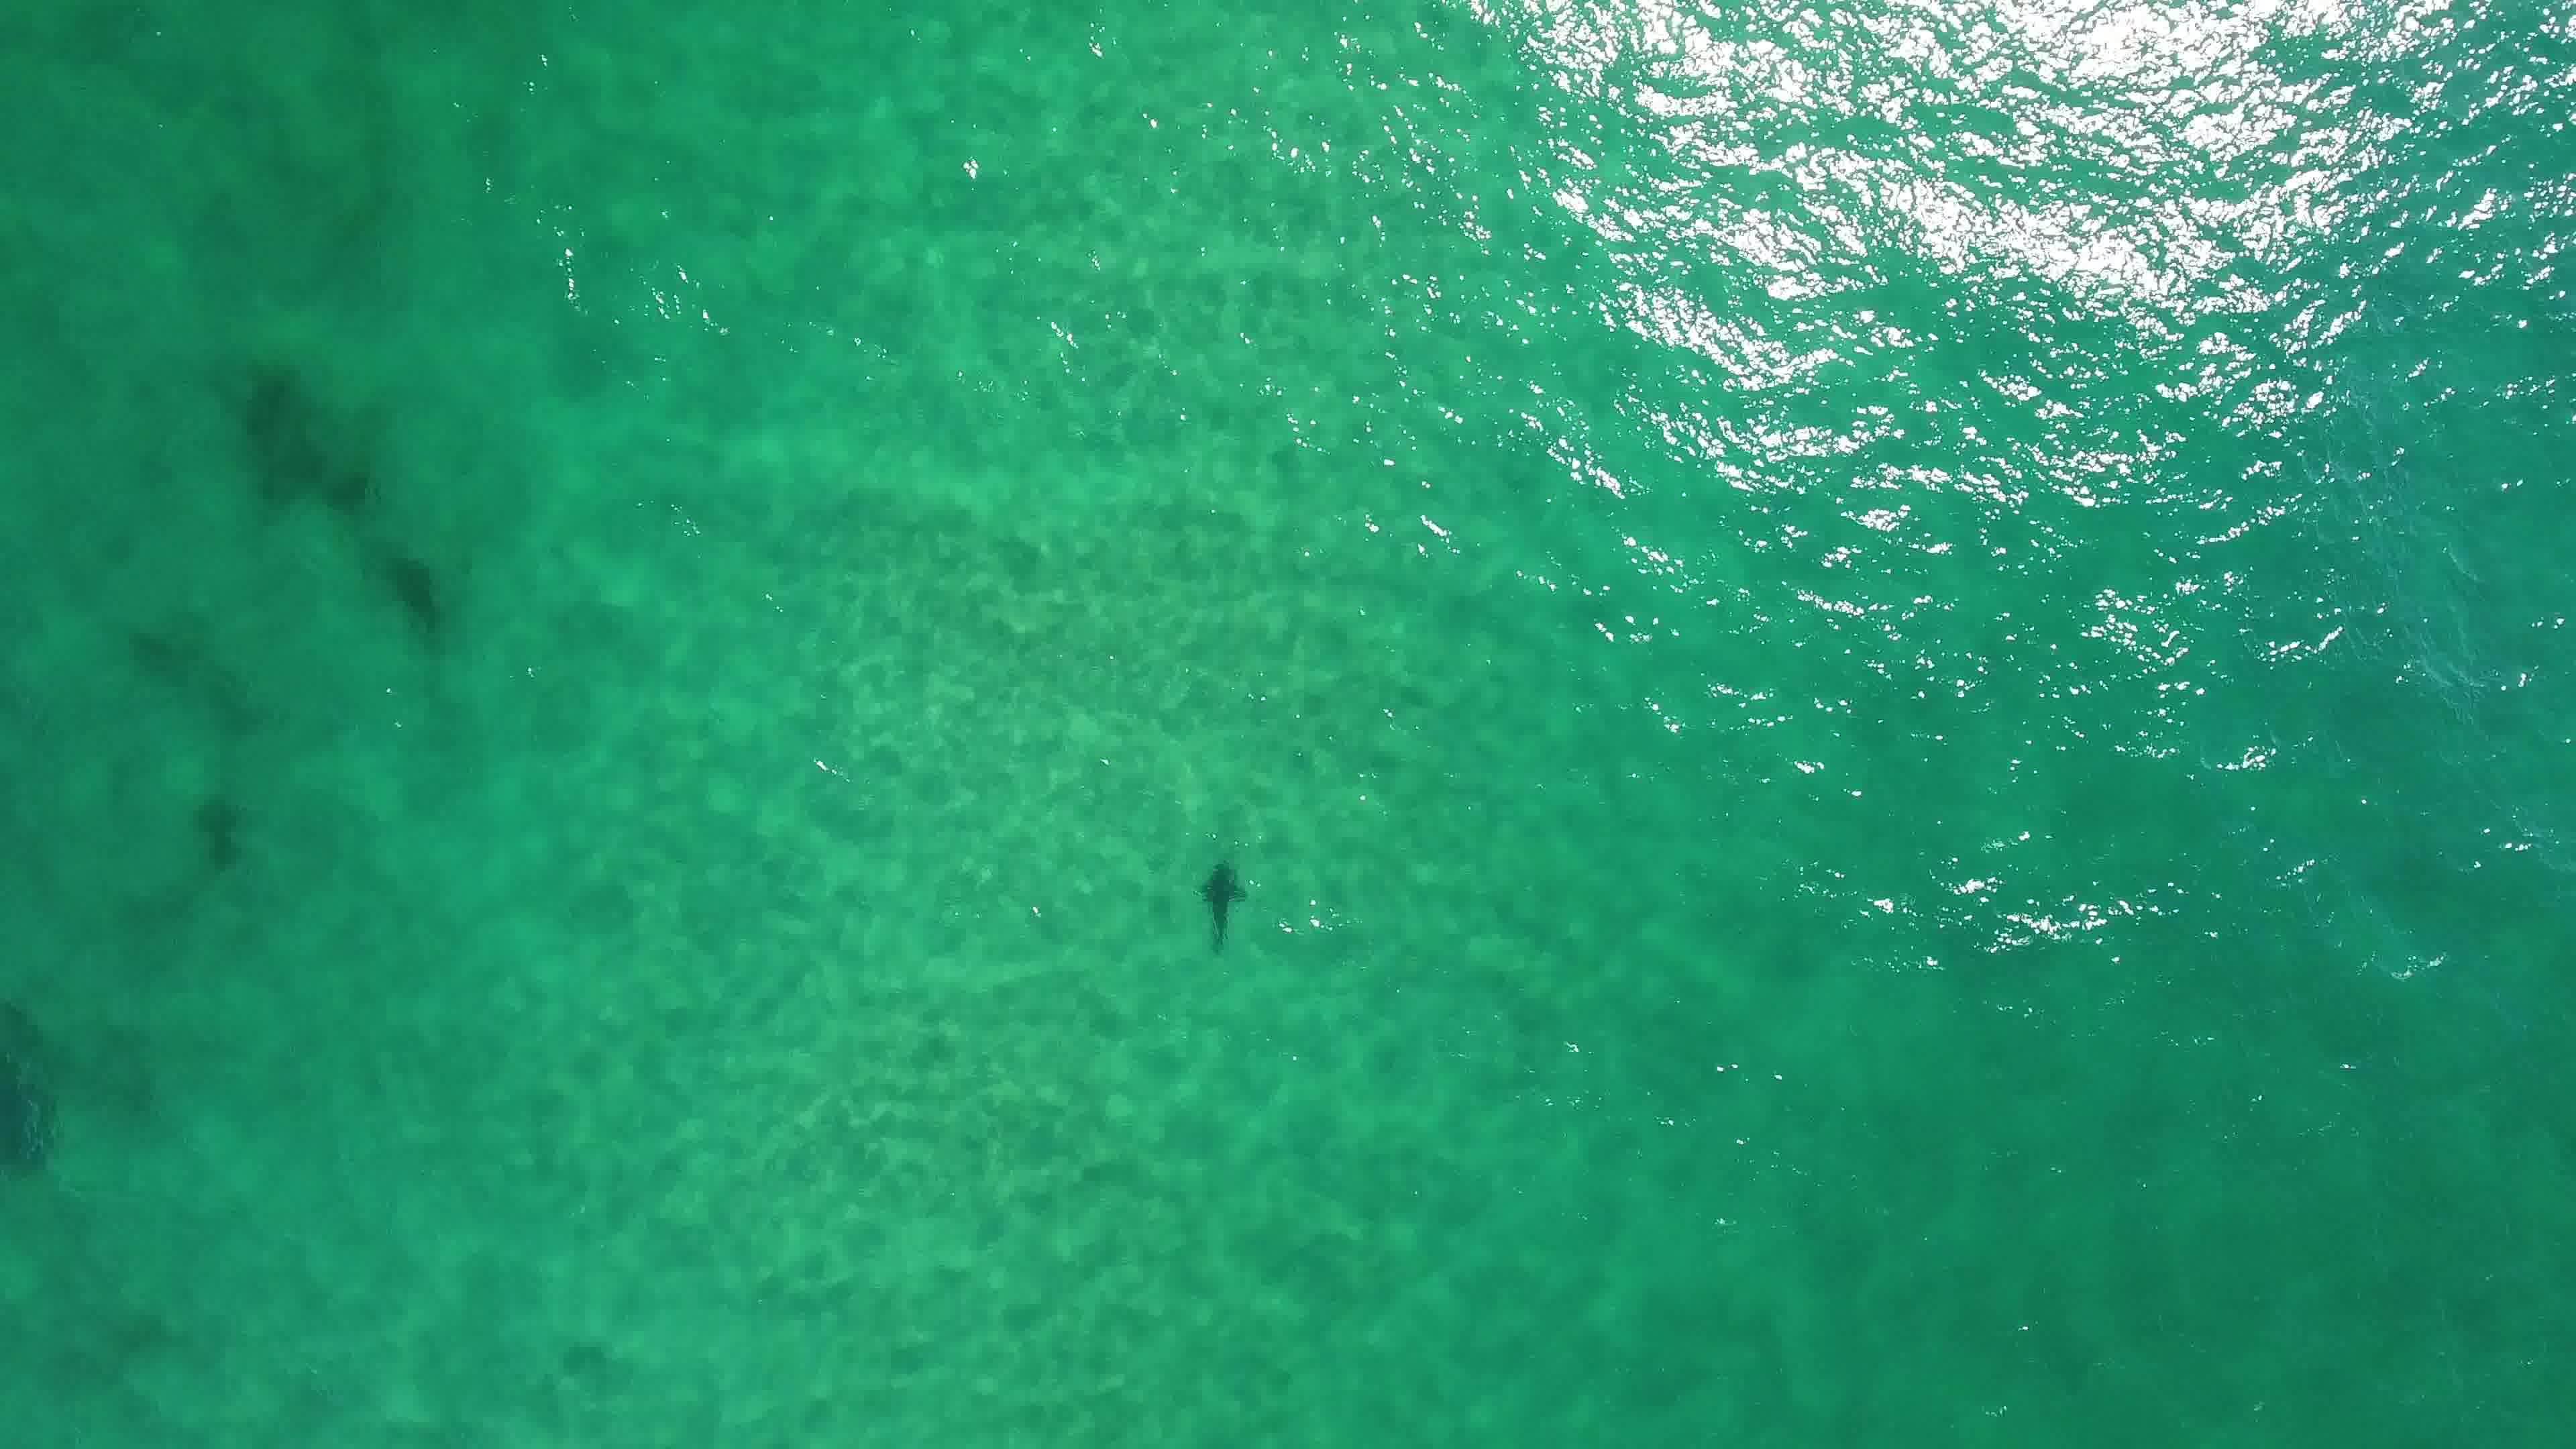shark: (1185, 853, 1258, 961)
